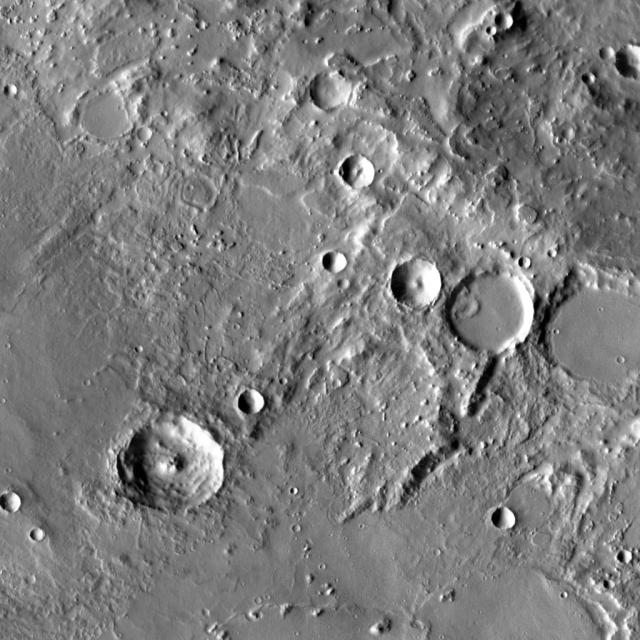crater: (399, 445, 575, 610), (544, 266, 640, 387), (124, 416, 228, 514), (451, 268, 540, 350), (82, 86, 140, 141), (396, 258, 446, 306), (315, 70, 357, 110), (339, 156, 374, 188), (620, 42, 640, 76), (243, 388, 270, 413), (497, 506, 521, 528), (323, 252, 347, 274), (4, 491, 27, 511), (495, 10, 514, 27), (136, 127, 152, 143), (622, 548, 637, 563), (3, 84, 18, 98), (30, 528, 44, 541), (601, 47, 615, 60), (581, 70, 594, 82), (337, 278, 349, 290), (520, 256, 532, 266), (200, 19, 210, 29), (609, 579, 619, 589), (487, 25, 497, 34), (332, 380, 341, 390), (548, 249, 557, 258), (431, 540, 439, 548), (282, 377, 290, 384), (292, 525, 300, 532), (160, 111, 167, 118), (615, 348, 622, 355), (291, 487, 298, 494), (132, 338, 140, 344), (558, 584, 566, 590), (253, 598, 260, 604)
